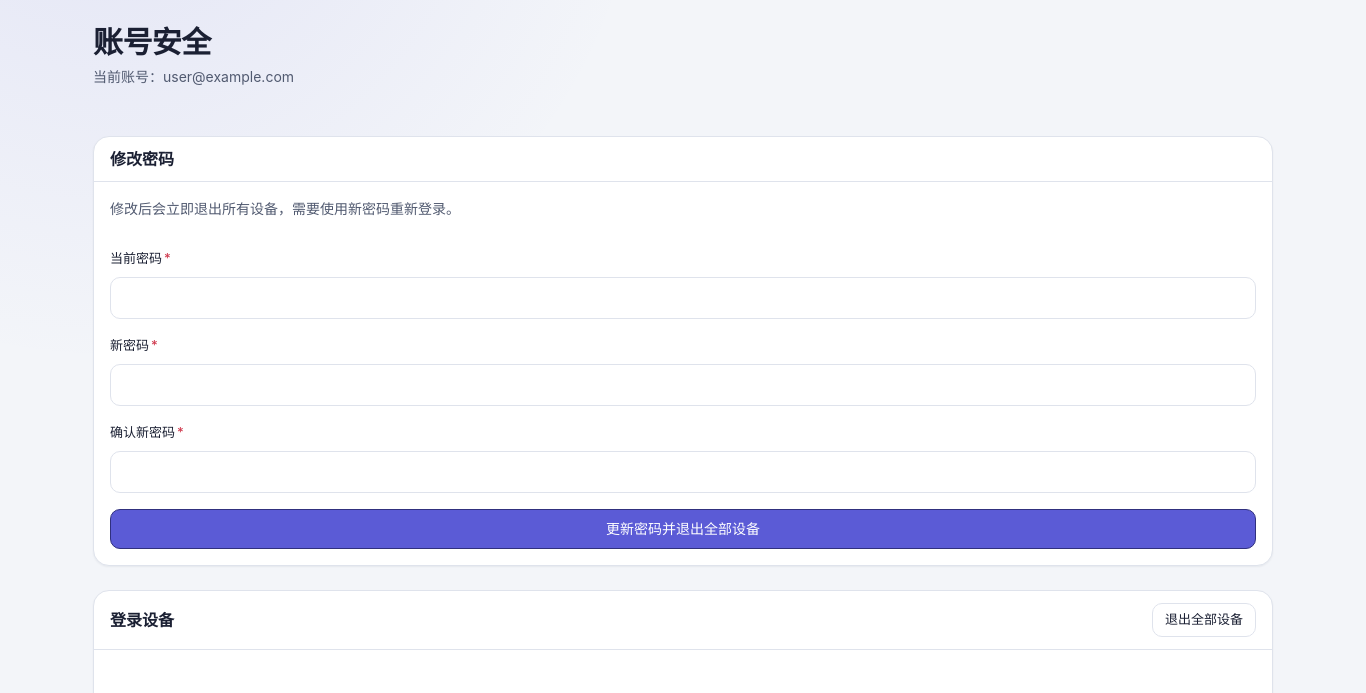
Test case: community account security pages › rejects reusing the current password before sending a request
Type "Current-Office#2026" into the password field labelled "当前密码*".
click(683, 298); type("Current-Office#2026")  # box [110,277,1256,319]
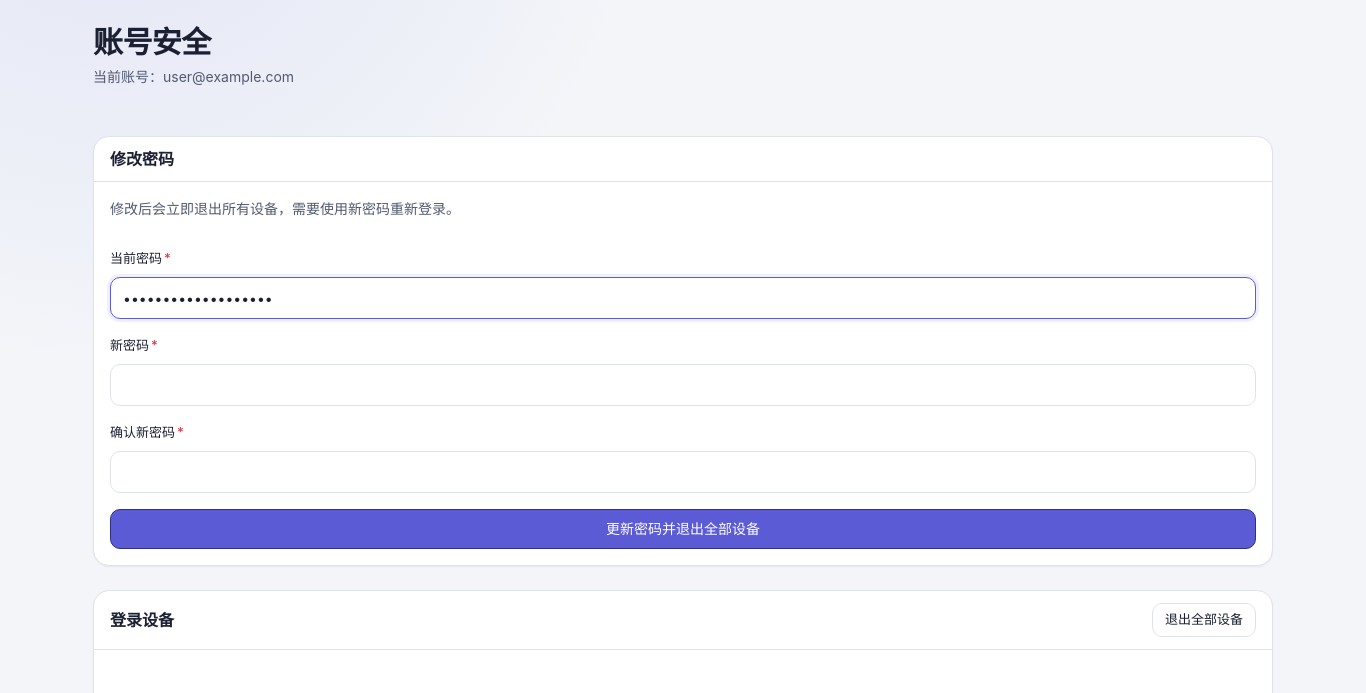
Type "Current-Office#2026" into the password field labelled "新密码*".
click(683, 385); type("Current-Office#2026")  # box [110,364,1256,406]
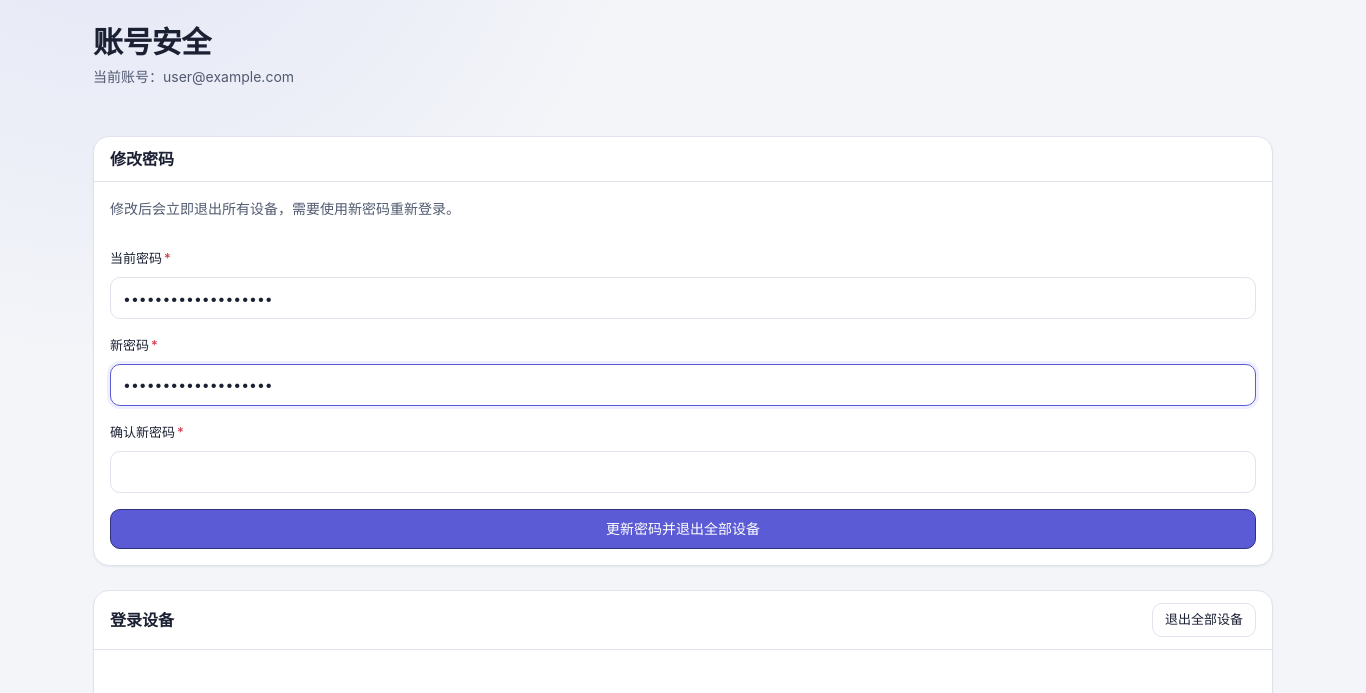
Type "Current-Office#2026" into the password field labelled "确认新密码*".
click(683, 472); type("Current-Office#2026")  # box [110,451,1256,493]
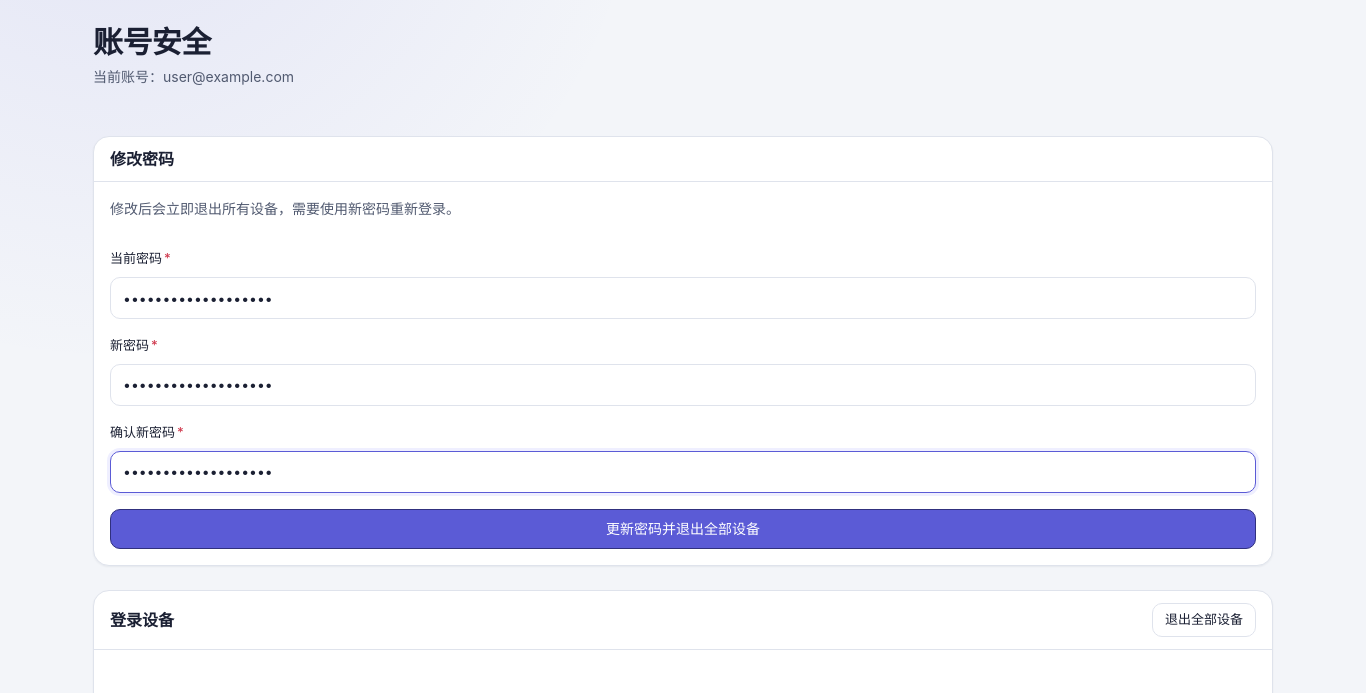
Click the button "更新密码并退出全部设备".
click(683, 529)  # box [110,509,1256,549]
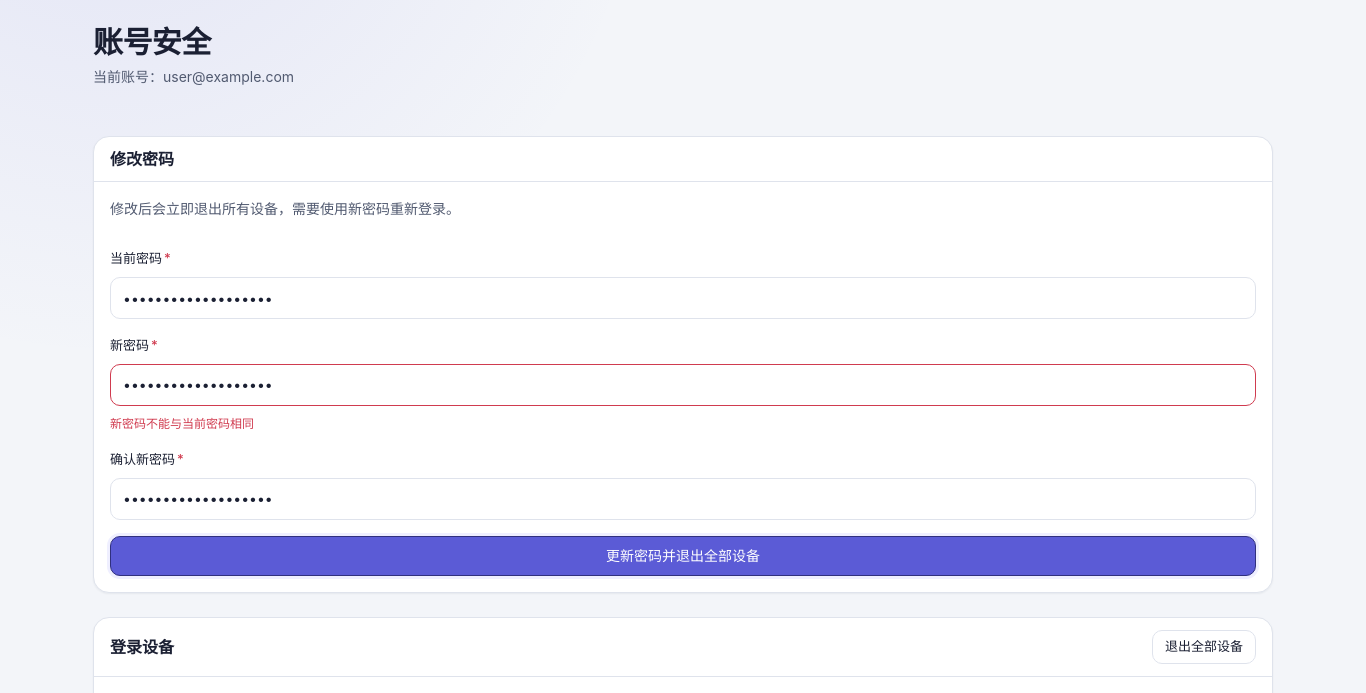
Check: the text "新密码不能与当前密码相同" is shown, box [110,416,254,431]
